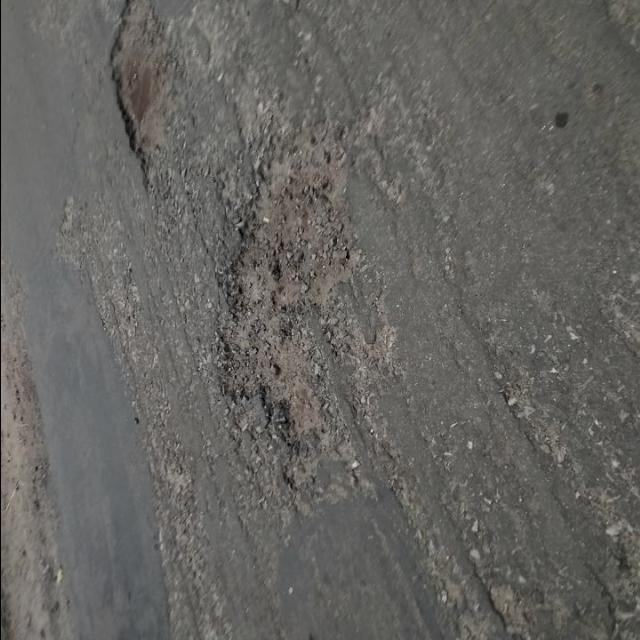pothole: (205, 130, 385, 512), (85, 0, 193, 210)
